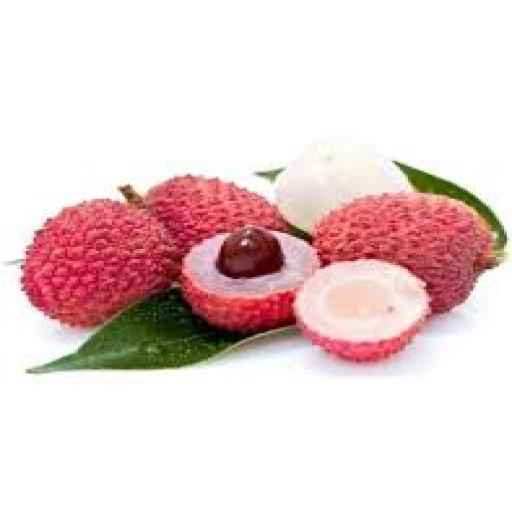lychee: (315, 193, 493, 313), (21, 199, 179, 327), (182, 227, 319, 333), (294, 260, 428, 361), (143, 175, 288, 261), (276, 141, 413, 232)
